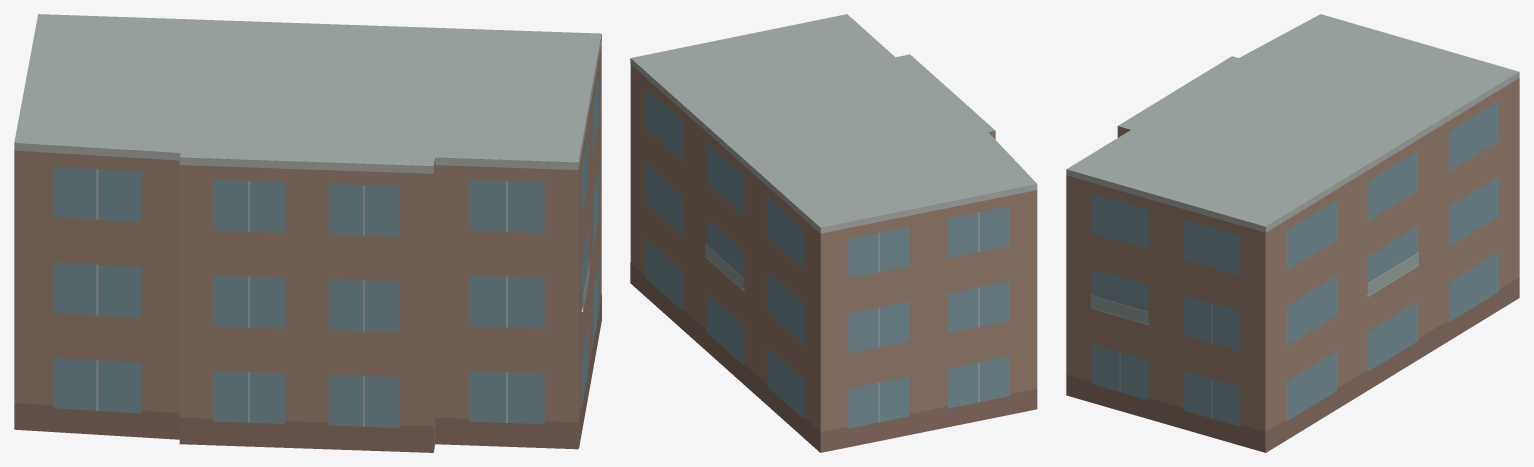
File: survey-upis-32707483.glb
3 renders of one model, left to right at view 1: azimuth 30°, elevation 25°; view 2: azimuth 150°, elevation 25°; view 3: azimuth 270°, elevation 25°, orthographic. The views are drawn at different scales.
Visible parts, largest first — view 1: survey-upis-32707483.tmp; view 2: survey-upis-32707483.tmp; view 3: survey-upis-32707483.tmp.
Boxes of the visible parts, x1,y1,x2,y2 form: survey-upis-32707483.tmp: (14,14,601,452); survey-upis-32707483.tmp: (630,14,1037,452); survey-upis-32707483.tmp: (1066,14,1519,452).
Size of the model in its own units: 18.47 by 9.15 by 16.62.
